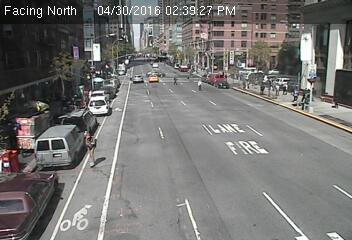neg: (137, 176, 166, 214), (240, 191, 262, 220), (164, 93, 185, 122), (290, 140, 311, 168), (124, 119, 143, 144), (182, 139, 201, 164), (302, 109, 319, 132), (93, 85, 110, 107), (82, 190, 99, 212), (232, 131, 248, 152), (94, 43, 109, 63), (41, 54, 56, 74), (237, 47, 251, 66), (152, 36, 166, 55), (193, 41, 207, 59), (296, 41, 309, 60), (244, 98, 256, 115)
pos: (76, 133, 101, 166)
